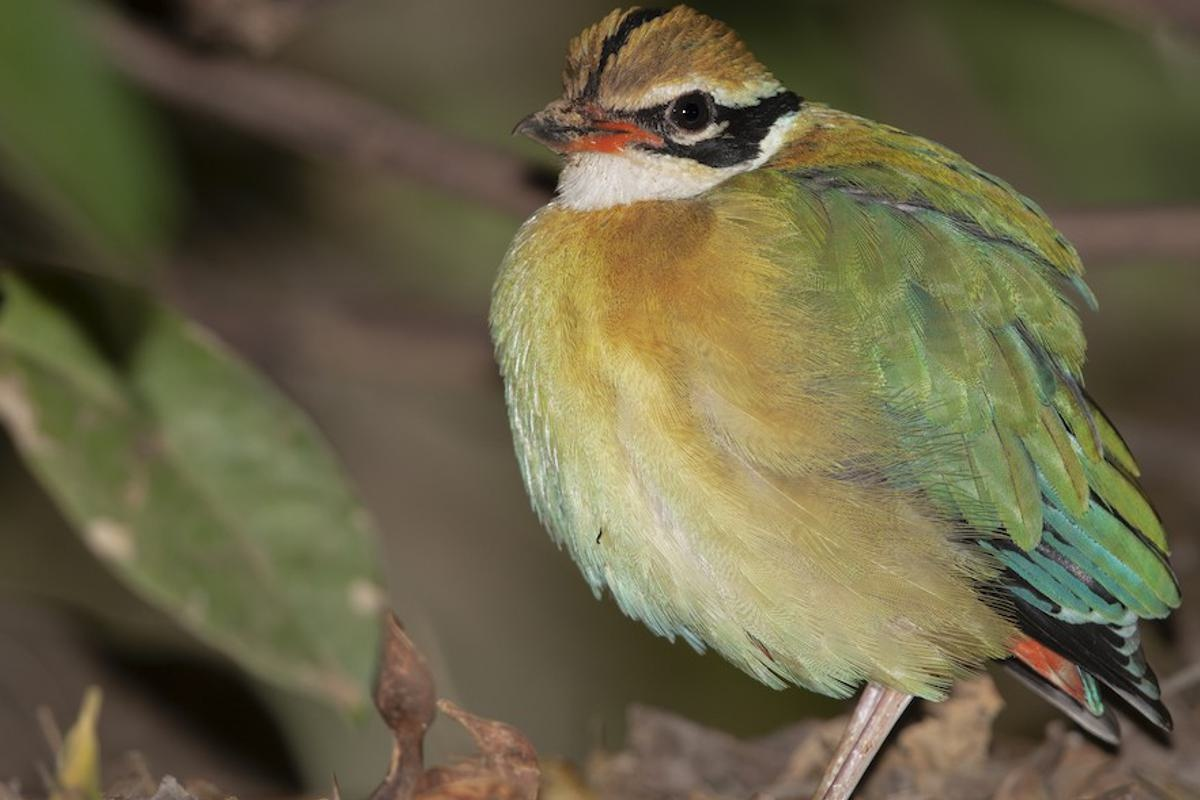pitta: (497, 52, 1184, 723)
